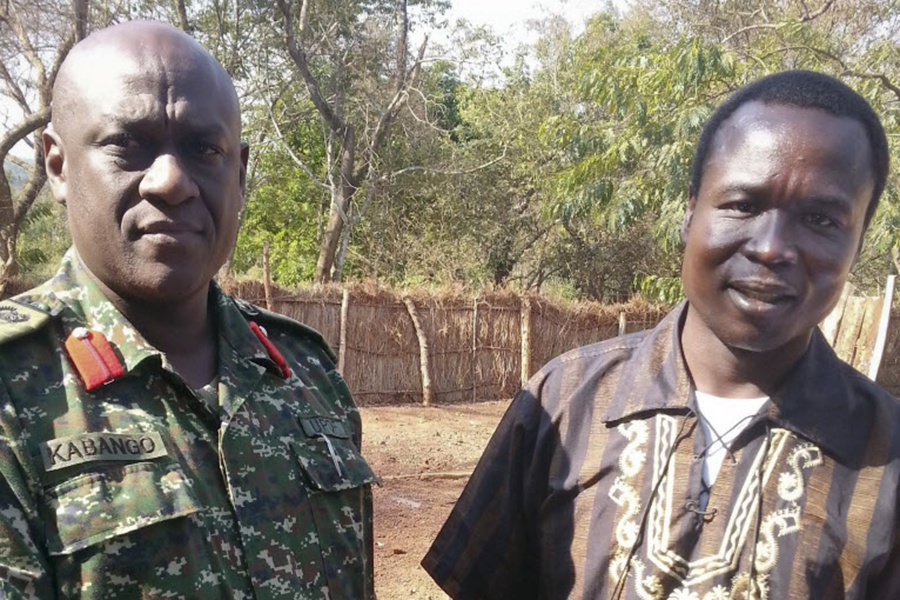mouth: (719, 274, 799, 318), (135, 217, 204, 251)
nose: (135, 175, 200, 205), (742, 239, 798, 266)
